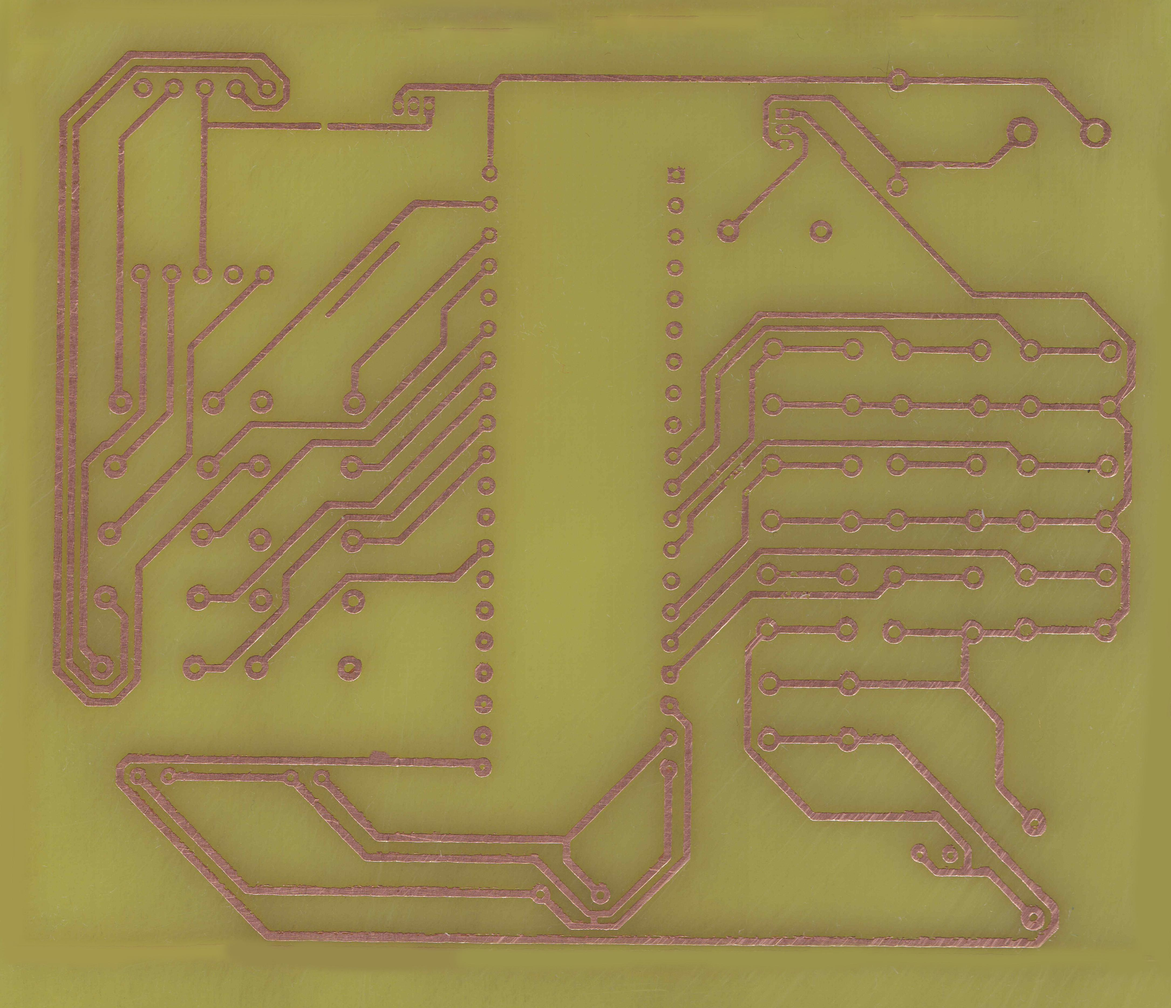missing_hole: (777, 138, 795, 151)
mouse_bite: (930, 159, 949, 173), (741, 485, 754, 500)
open_circuit: (317, 120, 331, 133)
short: (583, 909, 604, 928)
spur: (367, 747, 390, 768)
spurious_copper: (321, 238, 405, 319)
